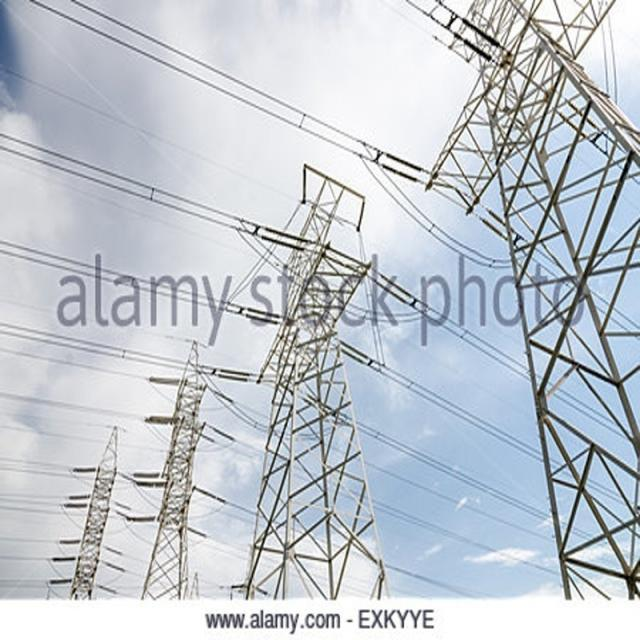non-critical vegetation: (416, 3, 638, 594), (242, 214, 386, 613), (143, 356, 226, 608), (51, 406, 128, 606)
